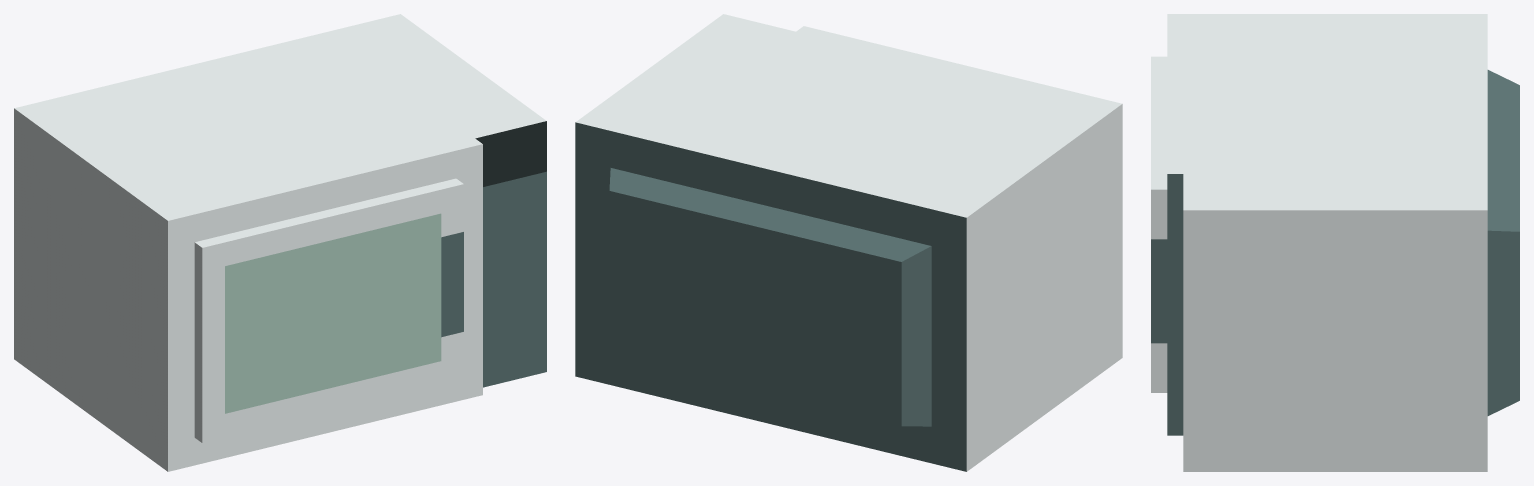
Rendered from kitchenMicrowave.glb.
The picture shows the model from 3 angles, left to right: view 1: azimuth 30°, elevation 25°; view 2: azimuth 150°, elevation 25°; view 3: azimuth 270°, elevation 25°; orthographic projection. The views are drawn at different scales.
Visible parts, largest first — view 1: kitchenMicrowave, Group 333; view 2: kitchenMicrowave; view 3: kitchenMicrowave, Group 333.
Part boxes in pixels (x1,y1,x2,y2): kitchenMicrowave: [14, 14, 546, 471]; Group 333: [194, 178, 463, 442]; kitchenMicrowave: [575, 14, 1122, 471]; kitchenMicrowave: [1167, 14, 1519, 471]; Group 333: [1151, 56, 1167, 392].
Bounding box in the file's own units: 0.522 × 0.324 × 0.414.
